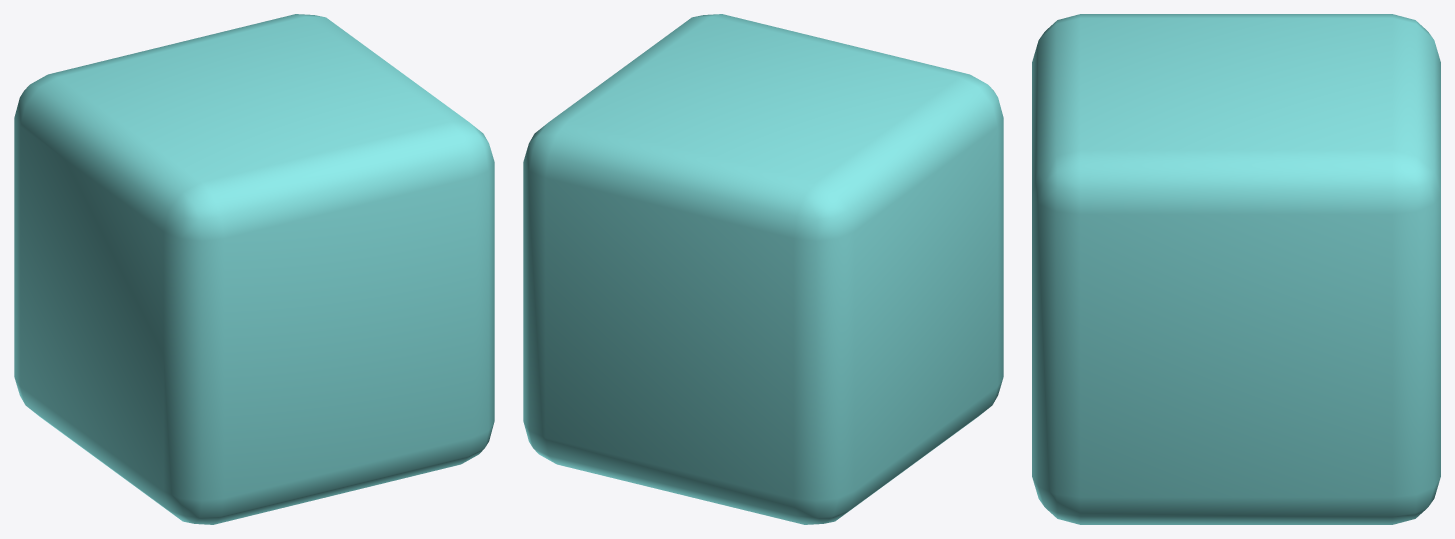
3 views of the same model, side by side, from view 1: azimuth 30°, elevation 25°; view 2: azimuth 150°, elevation 25°; view 3: azimuth 270°, elevation 25° (orthographic). The views are drawn at different scales.
Visible parts, largest first — view 1: Cube; view 2: Cube; view 3: Cube.
Boxes of the visible parts, left/top/right/bottom form: Cube: left=14, top=14, right=494, bottom=524; Cube: left=523, top=14, right=1003, bottom=524; Cube: left=1032, top=14, right=1440, bottom=524.
Bounding box in the file's own units: 100 × 100 × 100.
